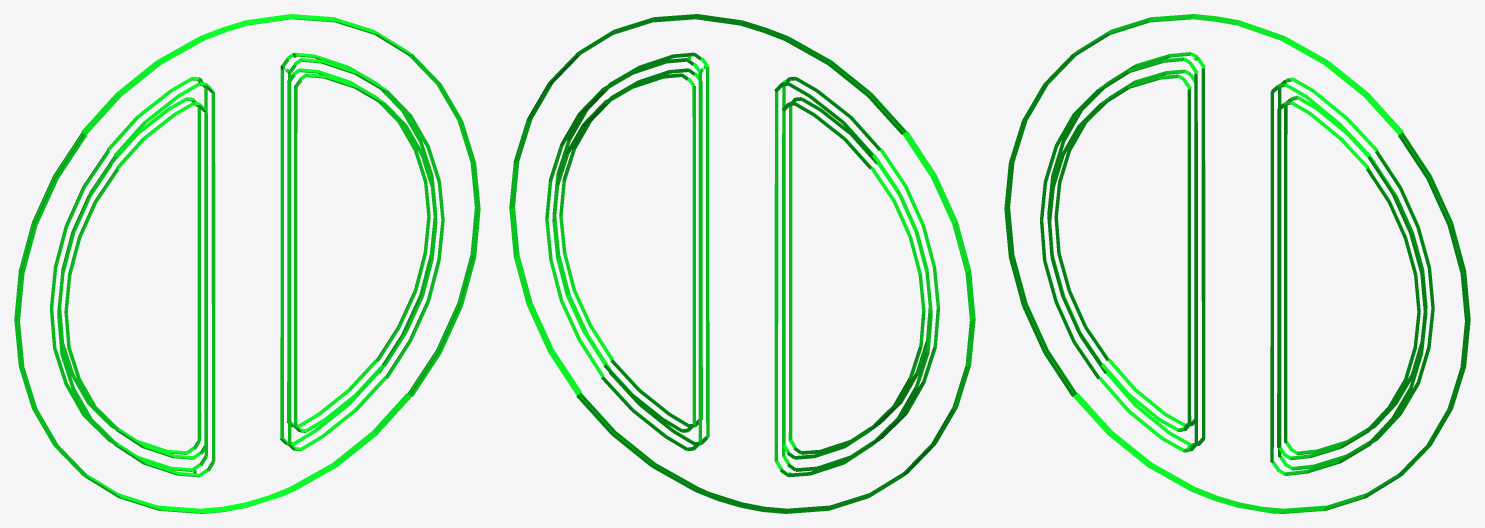
The model's file is VIS_TRACK.obj.
The picture shows the model from 3 angles, left to right: view 1: azimuth 30°, elevation 25°; view 2: azimuth 150°, elevation 25°; view 3: azimuth 330°, elevation 25°; orthographic projection.
Size of the model in its own units: 556 by 556 by 20.15.
